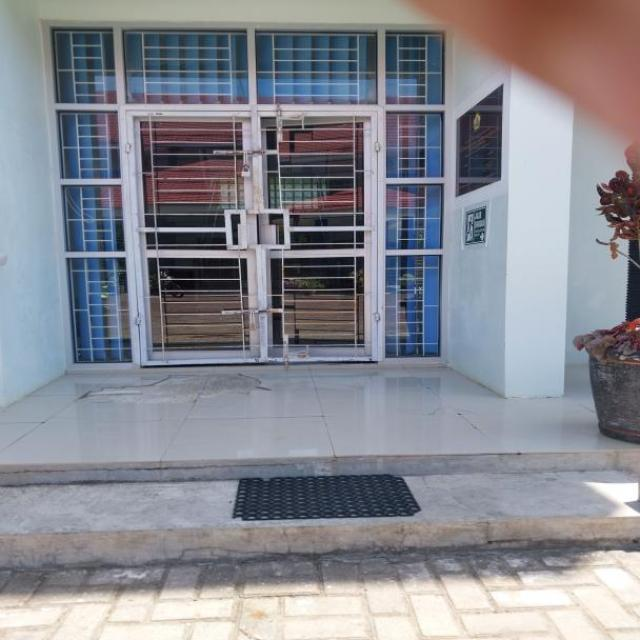Door ahead at: (125, 111, 380, 357)
